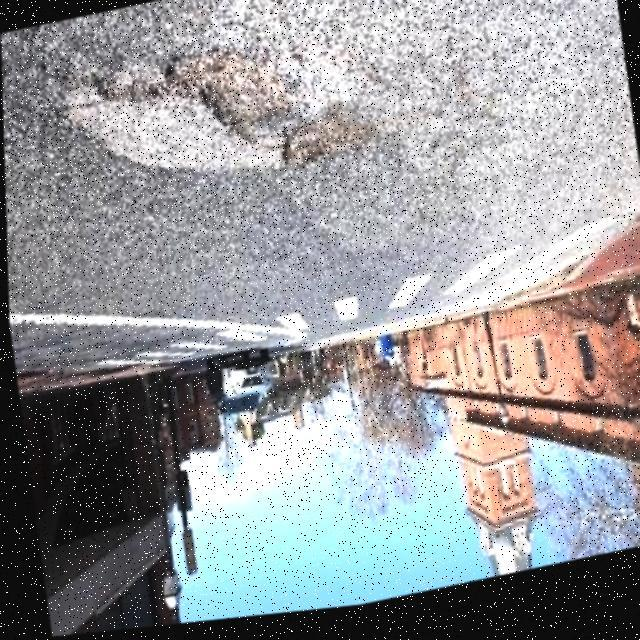pothole: (83, 5, 382, 216)
